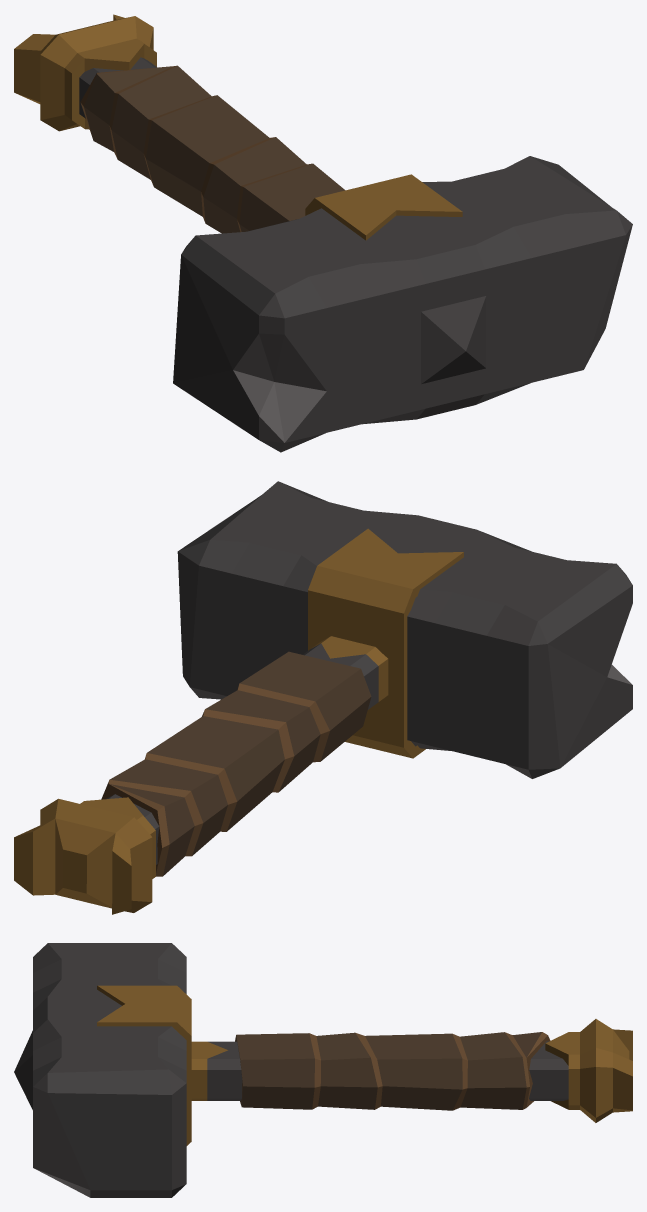
File: SM_Hammer_Dwarf.fbx
3 renders of one model, top to bottom at view 1: azimuth 30°, elevation 25°; view 2: azimuth 150°, elevation 25°; view 3: azimuth 270°, elevation 25°, orthographic. The views are drawn at different scales.
Visible parts, largest first — view 1: SM_Hammer_Dwarf; view 2: SM_Hammer_Dwarf; view 3: SM_Hammer_Dwarf.
Part boxes in pixels (x1,y1,x2,y2): SM_Hammer_Dwarf: [14, 14, 632, 452]; SM_Hammer_Dwarf: [14, 481, 632, 914]; SM_Hammer_Dwarf: [14, 943, 632, 1197].
Bounding box in the file's own units: 36.14 × 64.41 × 15.29.
